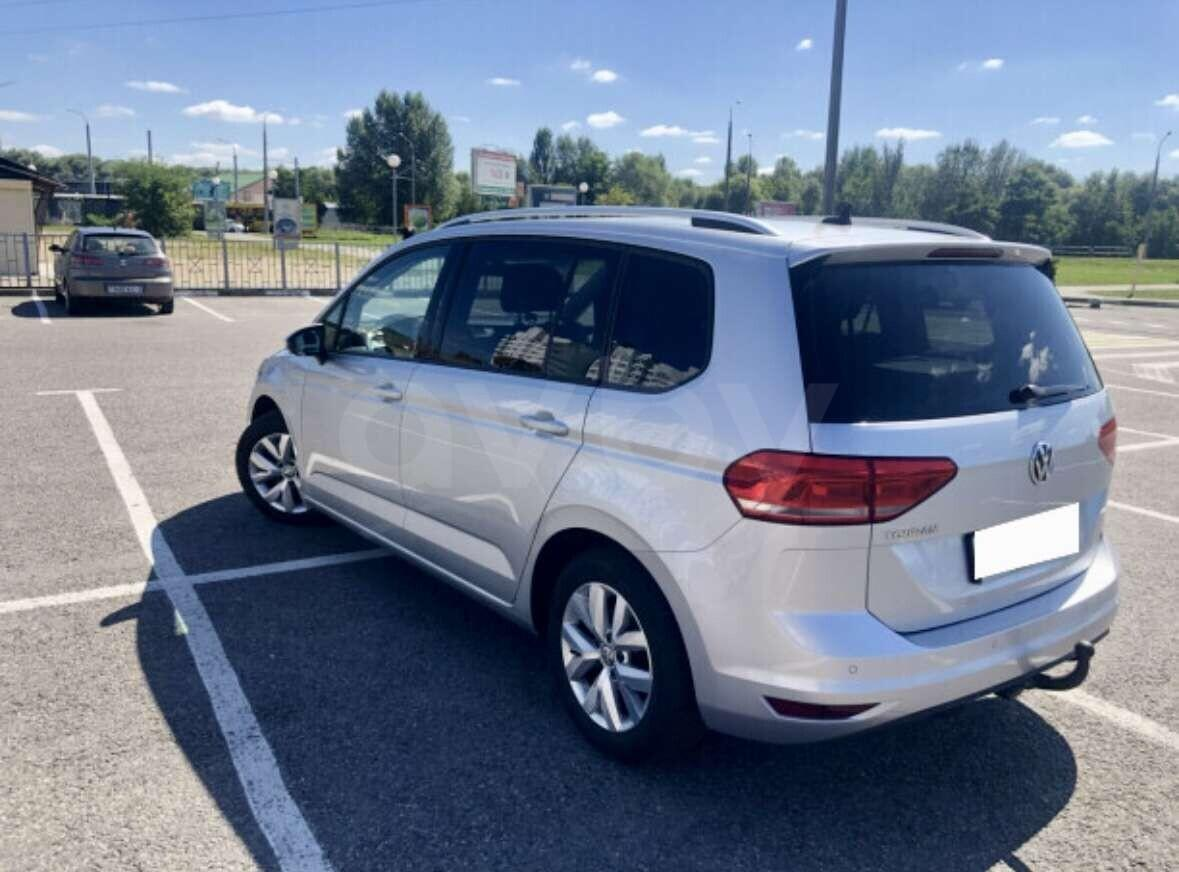Touran_2015: (234, 206, 1122, 746)
